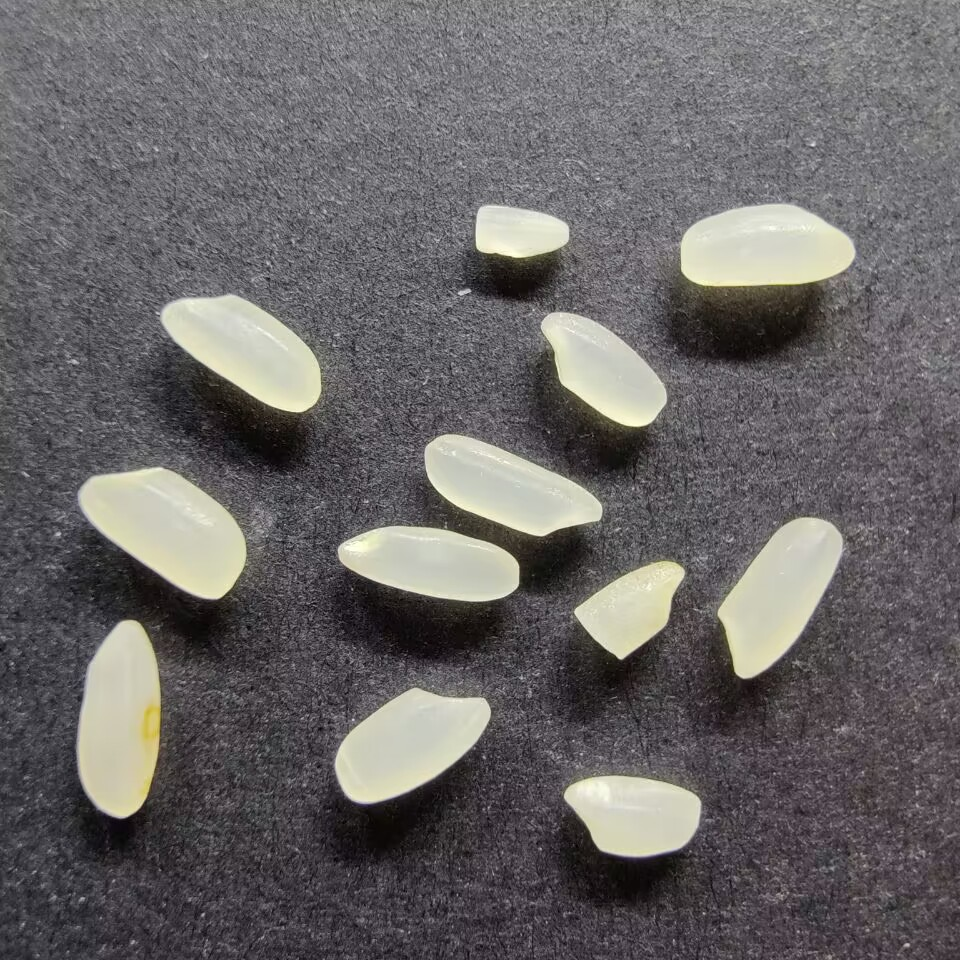broken: (572, 558, 685, 662), (473, 204, 570, 261)
rice: (75, 465, 247, 601), (714, 516, 844, 679), (158, 293, 323, 413), (333, 685, 492, 805), (423, 433, 604, 538), (73, 617, 163, 821), (677, 201, 856, 288), (539, 310, 668, 428), (335, 523, 521, 603), (561, 774, 702, 859)
